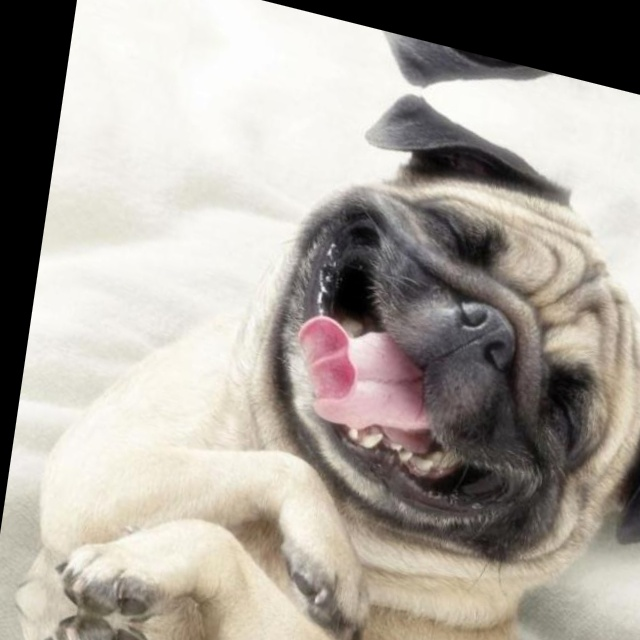dog: (172, 47, 640, 612), (236, 0, 640, 171)
